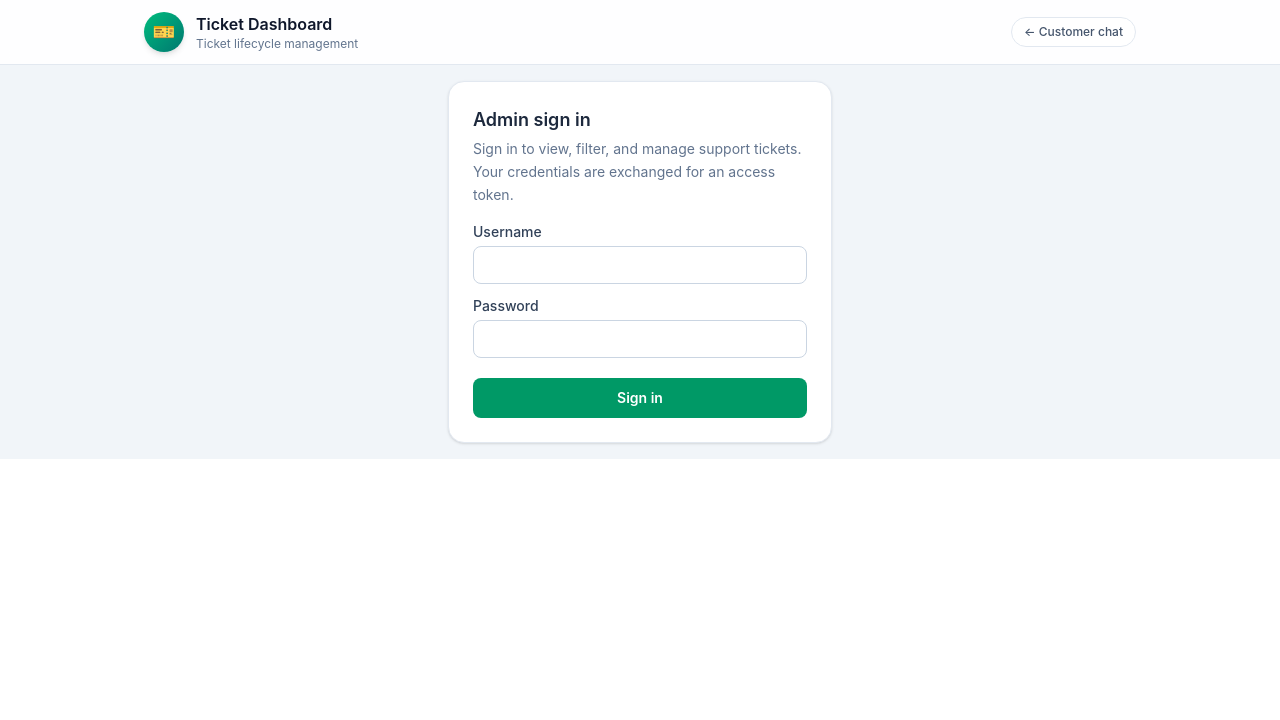
it: TicketDashboard › updates ticket status via the inline select
In the field labelled "Username": (640, 265) [473,246,807,284], type "admin"
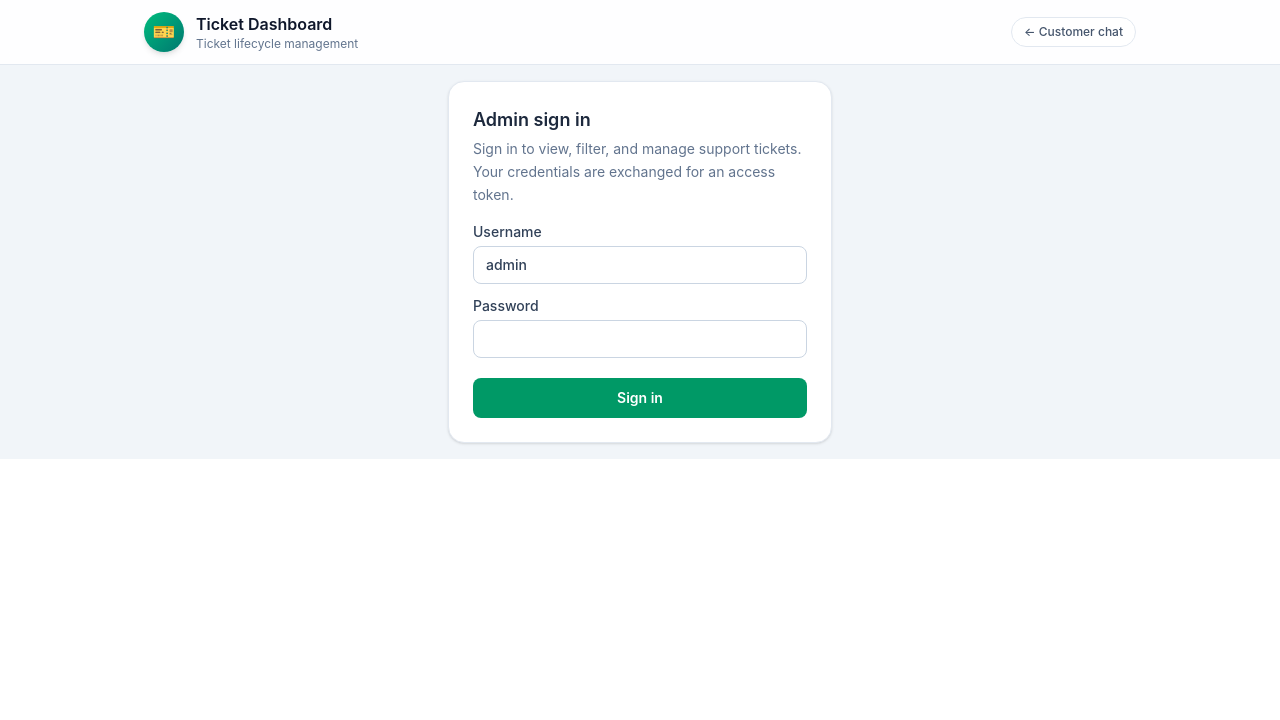
In the password field labelled "Password": (640, 339) [473,320,807,358], type "admin123"
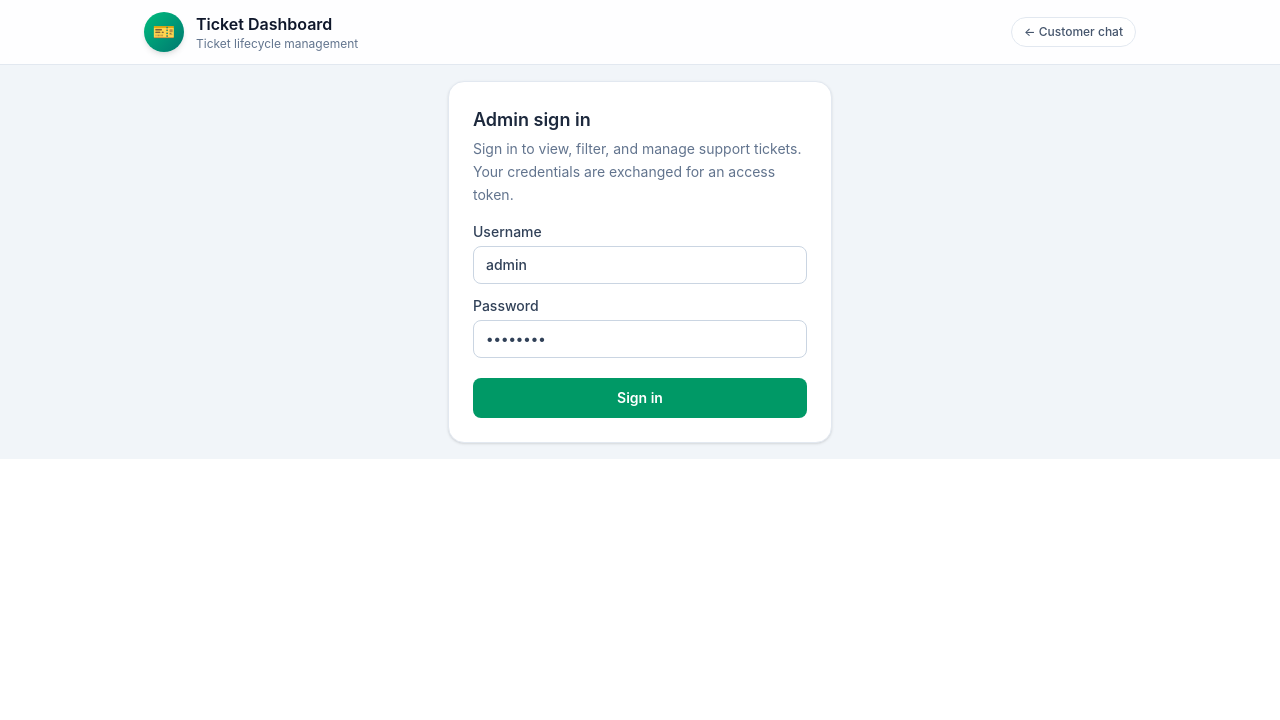
Submit the form, box [448,81,832,443]
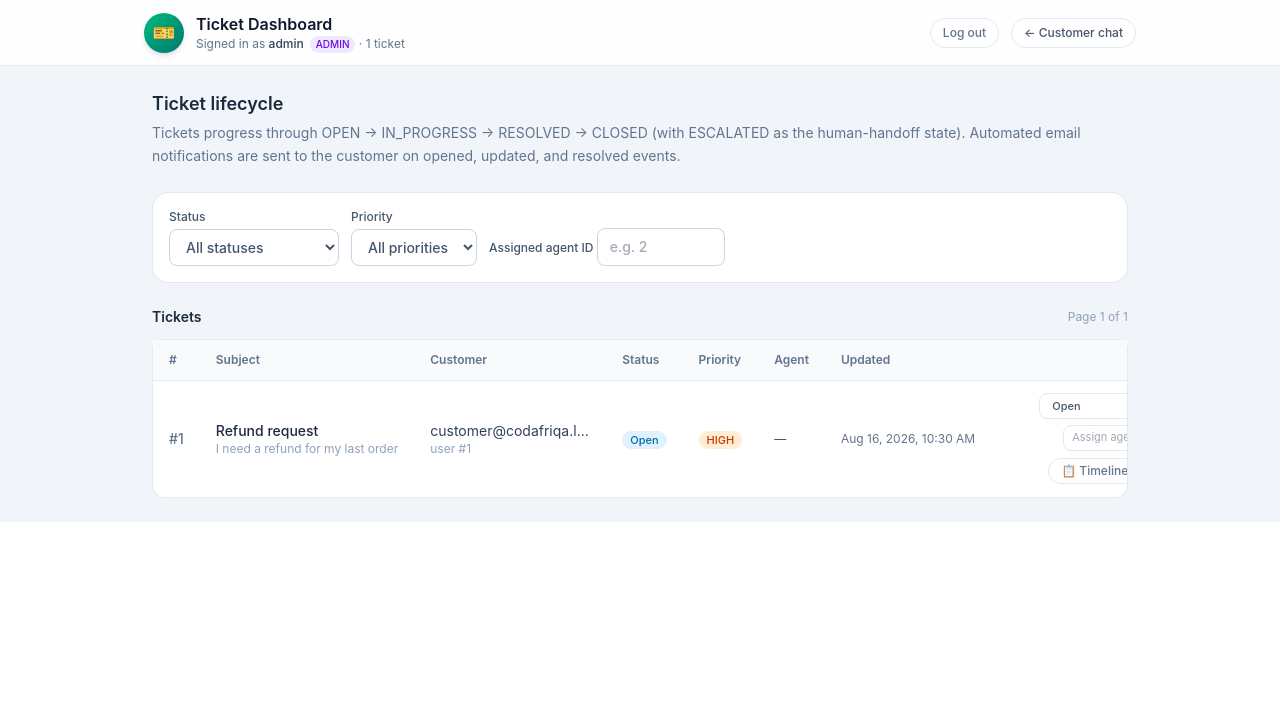
Select "In progress" in the dropdown with test id "status-select": (1107, 406) [1039,393,1175,419]
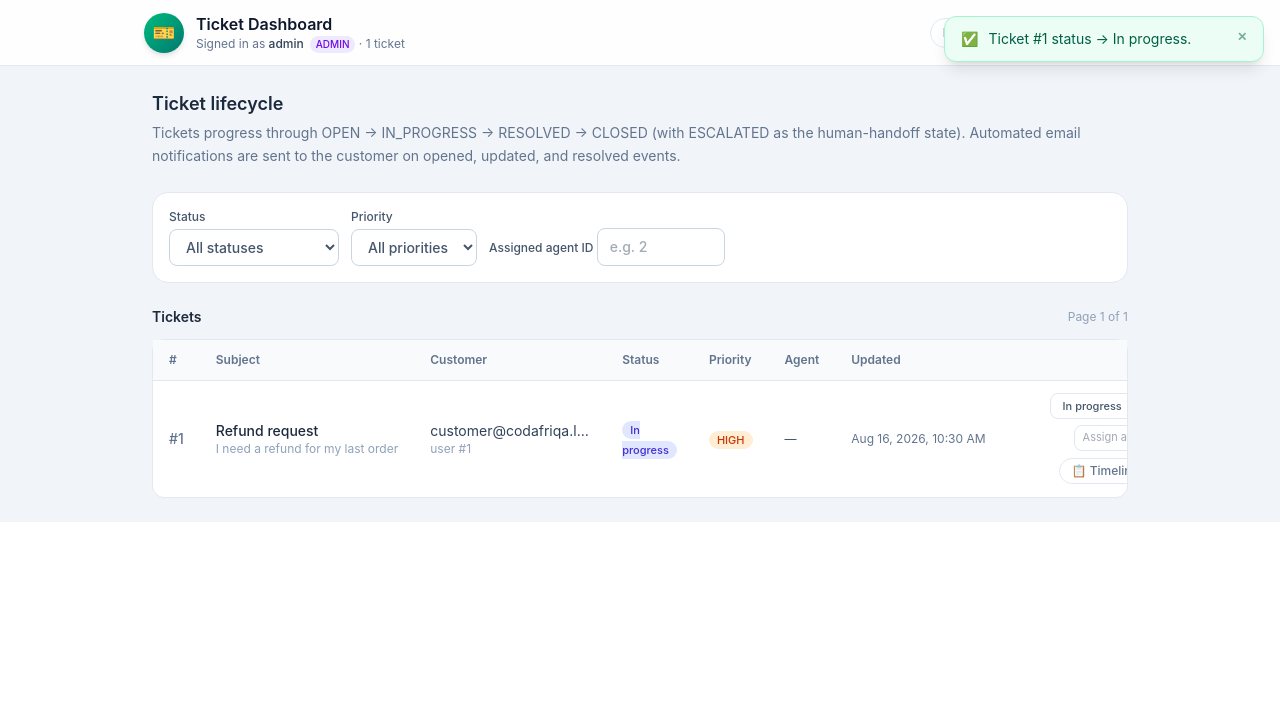
Expected: the text "In progress" is shown, [988,30,1191,47]
